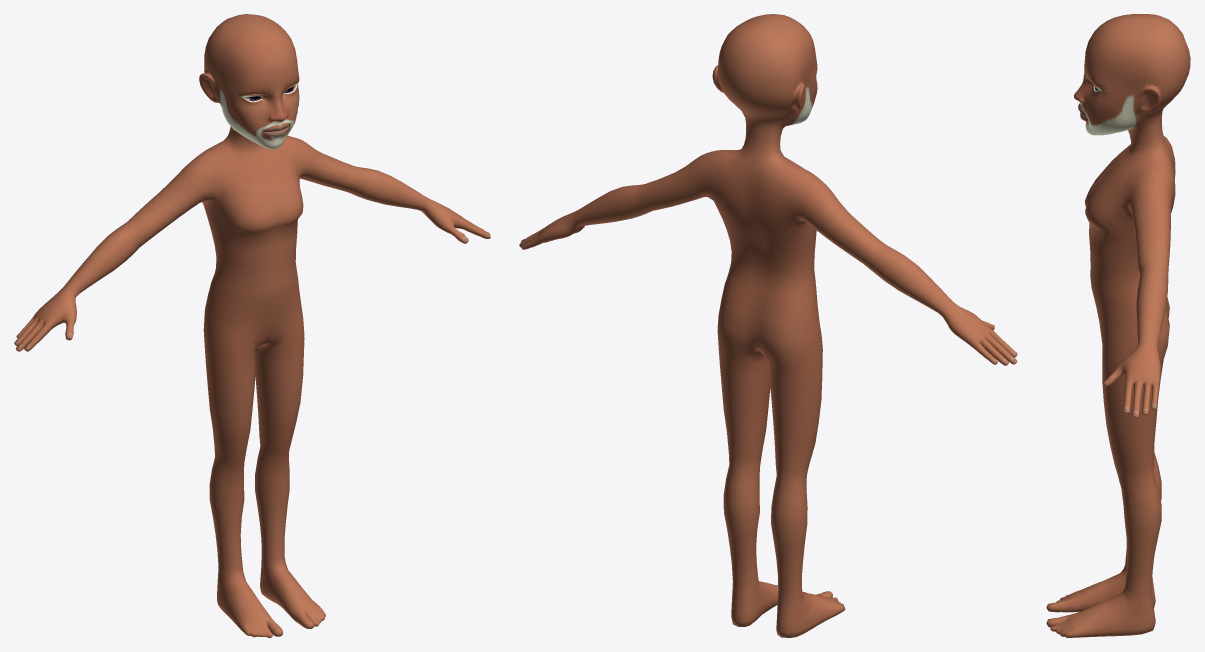
File: frame_0078.glb
3 renders of one model, left to right at view 1: azimuth 30°, elevation 25°; view 2: azimuth 150°, elevation 25°; view 3: azimuth 270°, elevation 25°, orthographic. The views are drawn at different scales.
Visible parts, largest first — view 1: frame_0078_head_geo; view 2: frame_0078_head_geo; view 3: frame_0078_head_geo.
Part boxes in pixels (x1,y1,x2,y2): frame_0078_head_geo: [14, 14, 490, 637]; frame_0078_head_geo: [519, 14, 1017, 637]; frame_0078_head_geo: [1046, 14, 1190, 637].
Size of the model in its own units: 1.28 by 1.5 by 0.3253.
Materials: 3 (3 with a texture image).
